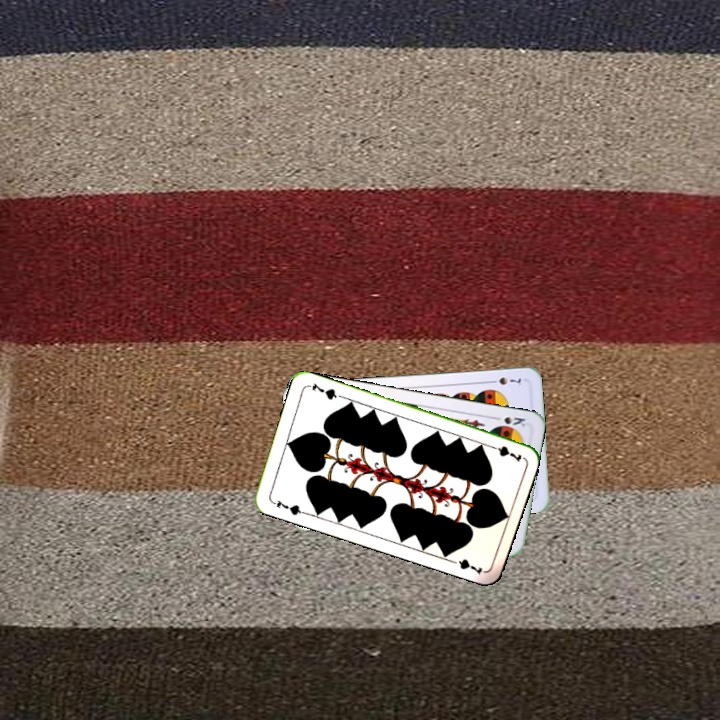G7: (484, 441, 524, 464), (268, 496, 307, 518)
S7: (485, 373, 524, 388)
SK: (489, 412, 528, 429)
